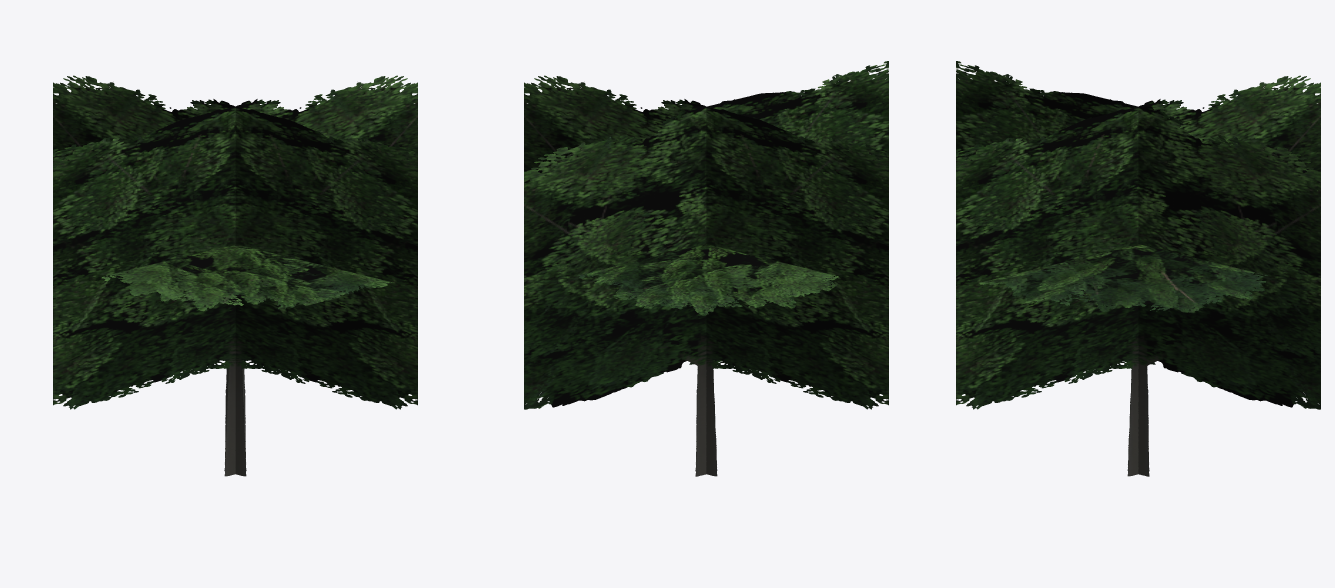
File: Beech_1_LOD2.glb
3 renders of one model, left to right at view 1: azimuth 30°, elevation 25°; view 2: azimuth 150°, elevation 25°; view 3: azimuth 270°, elevation 25°, orthographic.
Parts seen in each view (by area): view 1: Beech_1_LOD2; view 2: Beech_1_LOD2; view 3: Beech_1_LOD2.
Boxes of the visible parts, bbox=[...] form: Beech_1_LOD2: bbox=[53, 75, 417, 476]; Beech_1_LOD2: bbox=[524, 61, 888, 476]; Beech_1_LOD2: bbox=[956, 61, 1320, 476].
Size of the model in its own units: 23.4 by 23.4 by 20.26.
2 materials, 2 textured.
